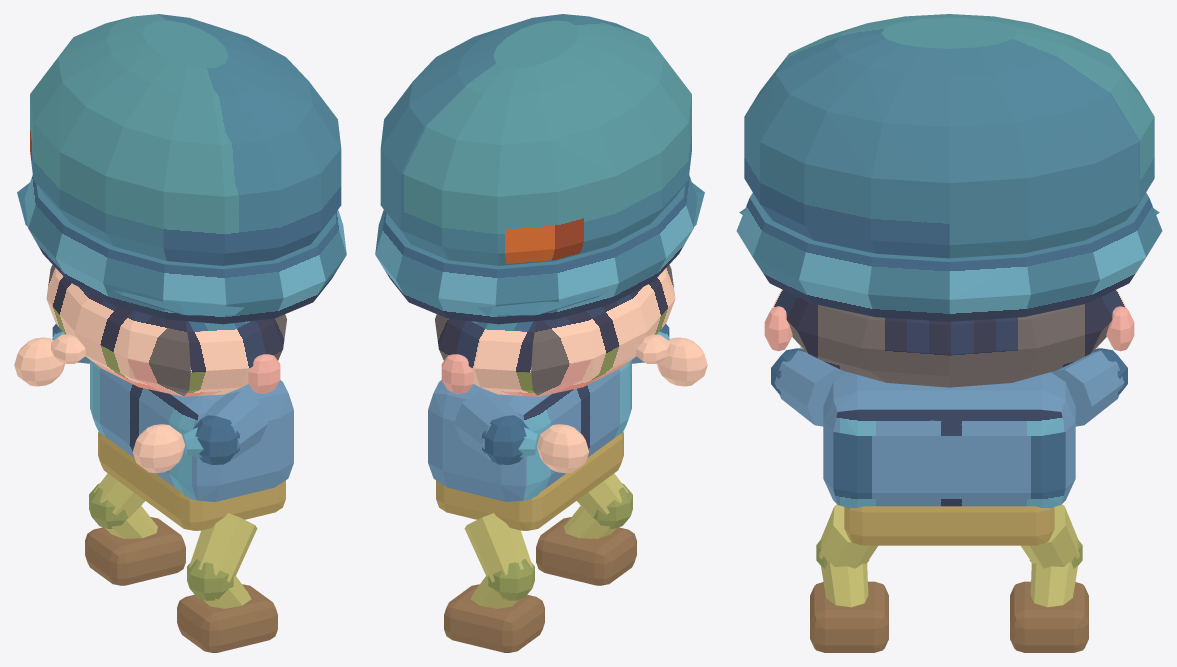
The model's file is rider.glb.
3 renders of one model, left to right at view 1: azimuth 30°, elevation 25°; view 2: azimuth 150°, elevation 25°; view 3: azimuth 270°, elevation 25°, orthographic. The views are drawn at different scales.
Visible parts, largest first — view 1: Person7_static_seated; view 2: Person7_static_seated; view 3: Person7_static_seated.
Boxes of the visible parts, x1=… form: Person7_static_seated: x1=14, y1=14, x2=346, y2=652; Person7_static_seated: x1=375, y1=14, x2=707, y2=652; Person7_static_seated: x1=736, y1=14, x2=1162, y2=652.
Bounding box in the file's own units: 10.84 × 22.17 × 14.09.
1 material, 1 textured.
